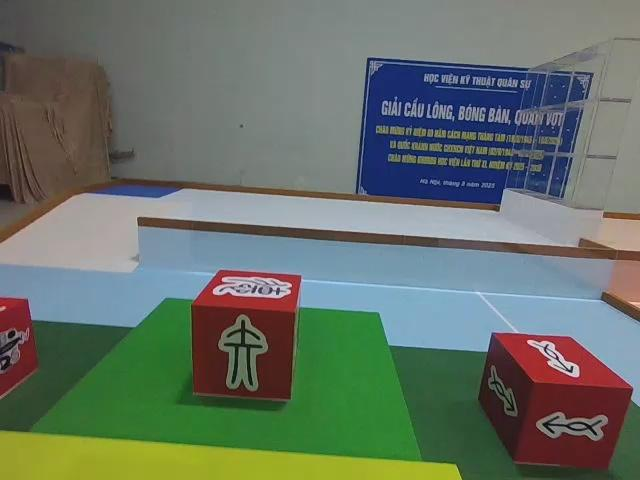R1: (0, 293, 41, 400)
R2 Fake: (189, 268, 300, 403)
R2 Real: (477, 330, 633, 472)
